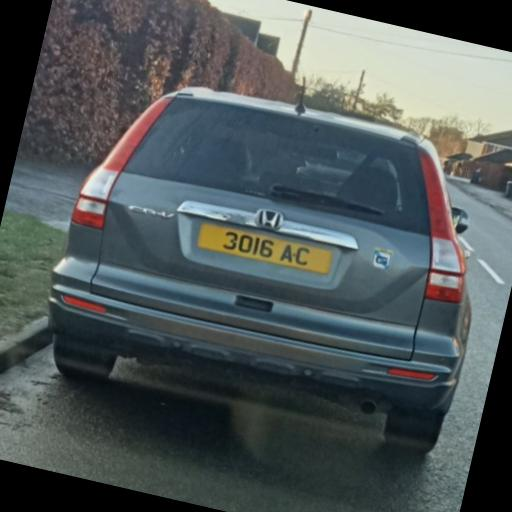numberplates: (198, 224, 332, 275)
